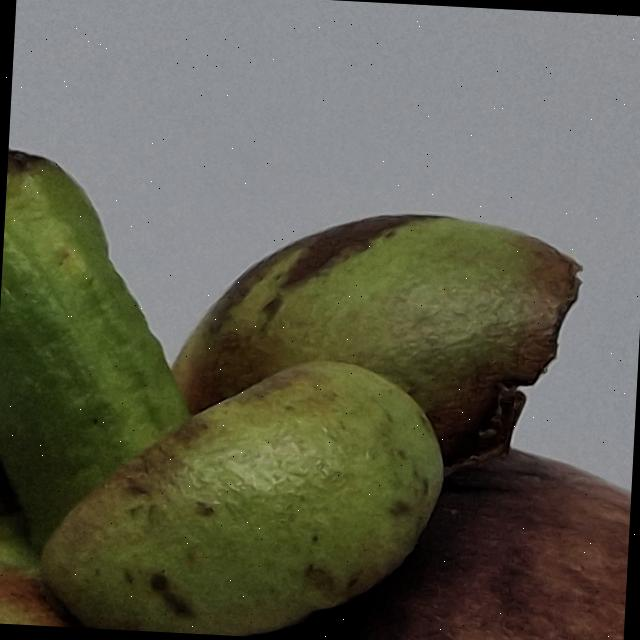mangosteen: (0, 118, 640, 640)
